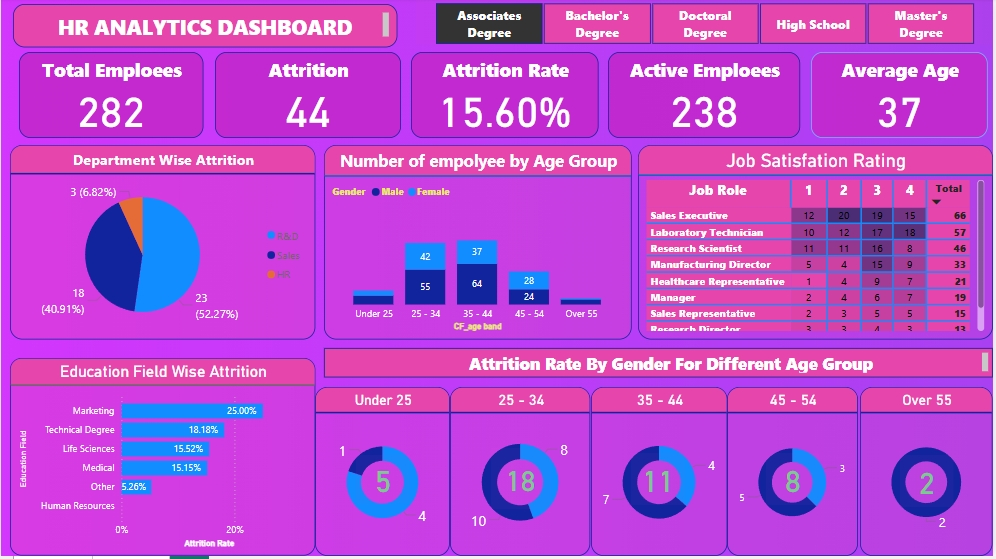

This screenshot's page, from the dashboard's own definition file:
{"tool":"powerbi","page":{"name":"Page 1","canvas":[1280,720],"ordinal":0},"visuals":[{"type":"card","title":"Total Emploees","fields":{"Values":["Sum(Table3.Employee Count)"]},"box":[22.7,69.4,238.1,110.6],"z":0},{"type":"card","title":"Attrition","fields":{"Values":["Sum(Table3.CF_attrition count)"]},"box":[276.4,69.4,239.5,110.6],"z":1000},{"type":"card","title":"Attrition Rate","fields":{"Values":["Table3.Attrition Rate"]},"box":[528.7,69.4,242.4,110.6],"z":2000},{"type":"card","title":"Active Emploees","fields":{"Values":["Table3.Active Employees"]},"box":[783.8,69.4,248,110.6],"z":3000},{"type":"card","title":"Average Age","fields":{"Values":["Avg(Table3.Age)"]},"box":[1044.6,69.4,228.2,110.6],"z":4000},{"type":"pieChart","title":"Department Wise Attrition","fields":{"Category":["Table3.Department"],"Y":["Sum(Table3.CF_attrition count)"]},"box":[11.3,189.9,394,250.9],"z":5000},{"type":"columnChart","title":"Number of empolyee by  Age Group","fields":{"Category":["Table3.CF_age band"],"Y":["Sum(Table3.Employee Count)"],"Series":["Table3.Gender"]},"box":[416.7,189.9,396.9,250.9],"z":6000},{"type":"pivotTable","title":"Job Satisfation Rating","fields":{"Rows":["Table3.Job Role"],"Columns":["Table3.Job Satisfaction"],"Values":["Sum(Table3.Employee Count)"]},"box":[822,189.9,457.8,250.9],"z":7000},{"type":"barChart","title":"Education Field Wise Attrition ","fields":{"Category":["Table3.Education Field"],"Y":["Table3.Attrition Rate"]},"box":[11.3,464.9,394,255.1],"z":8000},{"type":"donutChart","title":"Under 25","fields":{"Category":["Table3.Gender"],"Y":["Sum(Table3.CF_attrition count)"],"Series":["Table3.CF_age band"]},"box":[405.4,501.7,174.3,218.3],"z":9000},{"type":"textbox","box":[416.7,452.1,863.1,38.3],"z":10000},{"type":"donutChart","title":"25 - 34","fields":{"Category":["Table3.Gender"],"Y":["Sum(Table3.CF_attrition count)"],"Series":["Table3.CF_age band"]},"box":[579.7,501.7,181.4,218.3],"z":11000},{"type":"donutChart","title":"35 - 44","fields":{"Category":["Table3.Gender"],"Y":["Sum(Table3.CF_attrition count)"],"Series":["Table3.CF_age band"]},"box":[761.1,501.7,175.7,218.3],"z":12000},{"type":"donutChart","title":"45 - 54","fields":{"Category":["Table3.Gender"],"Y":["Sum(Table3.CF_attrition count)"],"Series":["Table3.CF_age band"]},"box":[936.9,501.7,168.7,218.3],"z":13000},{"type":"donutChart","title":"Over 55","fields":{"Category":["Table3.Gender"],"Y":["Sum(Table3.CF_attrition count)"],"Series":["Table3.CF_age band"]},"box":[1108.3,501.7,171.5,218.3],"z":14000},{"type":"card","fields":{"Values":["Sum(Table3.CF_attrition count)"]},"box":[457.8,589.6,69.4,62.4],"z":15000},{"type":"card","fields":{"Values":["Sum(Table3.CF_attrition count)"]},"box":[632.1,581.1,76.5,79.4],"z":16000},{"type":"card","fields":{"Values":["Sum(Table3.CF_attrition count)"]},"box":[813.5,586.8,69.4,66.6],"z":17000},{"type":"card","fields":{"Values":["Sum(Table3.CF_attrition count)"]},"box":[986.5,586.8,69.4,66.6],"z":18000},{"type":"card","fields":{"Values":["Sum(Table3.CF_attrition count)"]},"box":[1159.4,589.6,69.4,66.6],"z":19000},{"type":"textbox","box":[16,8,496,56],"z":20000},{"type":"slicer","fields":{"Values":["Table3.Education"]},"box":[535.6,0,744.4,60],"z":21000}]}

Visuals, with their boxes in screenshot pixels (x1, y1, x2, y2), scaled from the page's 1280x720 canvas onto the 996x559 screenshot:
"Total Emploees" card: x1=18, y1=54, x2=203, y2=140
"Attrition" card: x1=215, y1=54, x2=401, y2=140
"Attrition Rate" card: x1=411, y1=54, x2=600, y2=140
"Active Emploees" card: x1=610, y1=54, x2=803, y2=140
"Average Age" card: x1=813, y1=54, x2=990, y2=140
"Department Wise Attrition" pieChart: x1=9, y1=147, x2=315, y2=342
"Number of empolyee by  Age Group" columnChart: x1=324, y1=147, x2=633, y2=342
"Job Satisfation Rating" pivotTable: x1=640, y1=147, x2=995, y2=342
"Education Field Wise Attrition " barChart: x1=9, y1=361, x2=315, y2=558
"Under 25" donutChart: x1=315, y1=390, x2=451, y2=558
textbox: x1=324, y1=351, x2=995, y2=381
"25 - 34" donutChart: x1=451, y1=390, x2=592, y2=558
"35 - 44" donutChart: x1=592, y1=390, x2=729, y2=558
"45 - 54" donutChart: x1=729, y1=390, x2=860, y2=558
"Over 55" donutChart: x1=862, y1=390, x2=995, y2=558
card - Sum(Table3.CF_attrition count): x1=356, y1=458, x2=410, y2=506
card - Sum(Table3.CF_attrition count): x1=492, y1=451, x2=551, y2=513
card - Sum(Table3.CF_attrition count): x1=633, y1=456, x2=687, y2=507
card - Sum(Table3.CF_attrition count): x1=768, y1=456, x2=822, y2=507
card - Sum(Table3.CF_attrition count): x1=902, y1=458, x2=956, y2=509
textbox: x1=12, y1=6, x2=398, y2=50
slicer - Table3.Education: x1=417, y1=0, x2=995, y2=47
